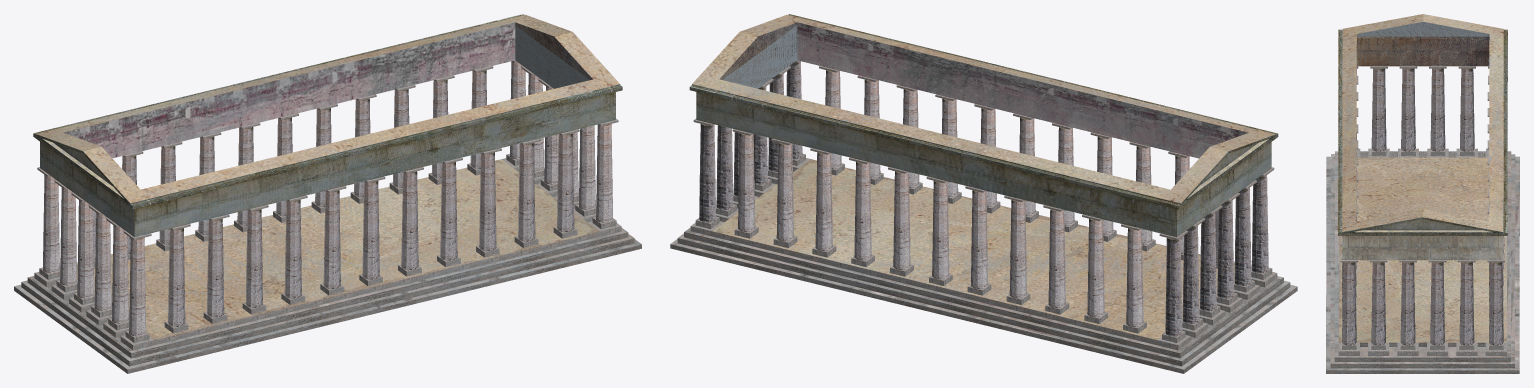
File: tempio segesta.dae
The picture shows the model from 3 angles, left to right: view 1: azimuth 30°, elevation 25°; view 2: azimuth 150°, elevation 25°; view 3: azimuth 270°, elevation 25°; orthographic projection. The views are drawn at different scales.
Visible parts, largest first — view 1: SketchUp (×15), group_22, group_27, group_30, group_10, group_9, group_16, group_26, group_13, group_24, group_31, group_33 (+20 smaller); view 2: SketchUp (×15), group_15, group_20, group_32, group_28, group_29, group_17, group_21, group_19, group_14, group_12, group_25 (+20 smaller); view 3: SketchUp (×16), group_0 (×2), group_4 (×2), group_2 (×2), group_1 (×2), group_6 (×2), group_3 (×2), group_8, group_11, group_18, group_5.
Boxes of the visible parts, x1,y1,x2,y2 form: SketchUp (×15): (14, 14, 641, 373); group_22: (479, 152, 496, 251); group_27: (440, 162, 457, 260); group_30: (401, 171, 418, 269); group_10: (362, 181, 379, 279); group_9: (518, 143, 535, 241); group_16: (557, 133, 574, 232); group_26: (168, 228, 185, 326); group_13: (284, 200, 301, 298); group_24: (207, 219, 224, 317); group_31: (323, 190, 340, 288); group_33: (245, 209, 262, 307); SketchUp (×15): (670, 14, 1297, 373); group_15: (1087, 219, 1104, 317); group_20: (854, 162, 871, 260); group_32: (1126, 228, 1143, 326); group_28: (893, 171, 910, 269); group_29: (932, 181, 949, 279); group_17: (1048, 209, 1065, 307); group_21: (815, 152, 832, 250); group_19: (738, 133, 755, 231); group_14: (1009, 200, 1026, 298); group_12: (776, 143, 793, 241); group_25: (971, 190, 988, 288); SketchUp (×16): (1326, 14, 1519, 373); group_0 (×2): (1456, 262, 1477, 355); group_4 (×2): (1397, 262, 1418, 355); group_2 (×2): (1368, 262, 1389, 355); group_1 (×2): (1338, 262, 1359, 355); group_6 (×2): (1485, 262, 1506, 355); group_3 (×2): (1427, 262, 1447, 355); group_8: (1430, 68, 1445, 151); group_11: (1371, 68, 1386, 151); group_18: (1401, 68, 1415, 151); group_5: (1460, 68, 1474, 151).
Bounding box in the file's own units: 2426 × 931 × 803.
